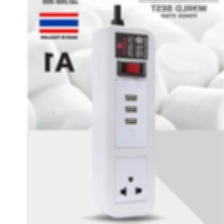three_eye_plug: (90, 21, 159, 220)
